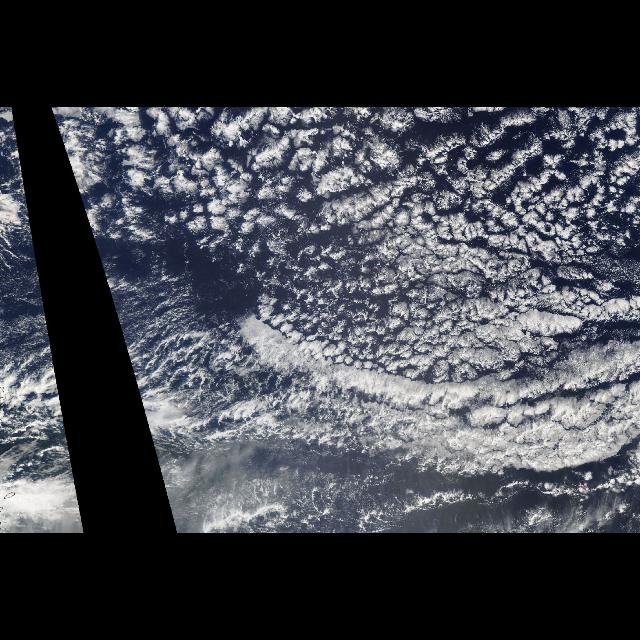Fish: (151, 306, 639, 504)
Flower: (141, 112, 635, 378)
